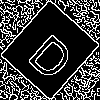D: (25, 24, 83, 83)
